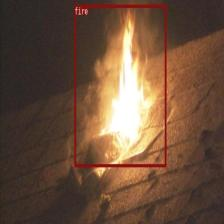fire: (74, 4, 166, 167)
